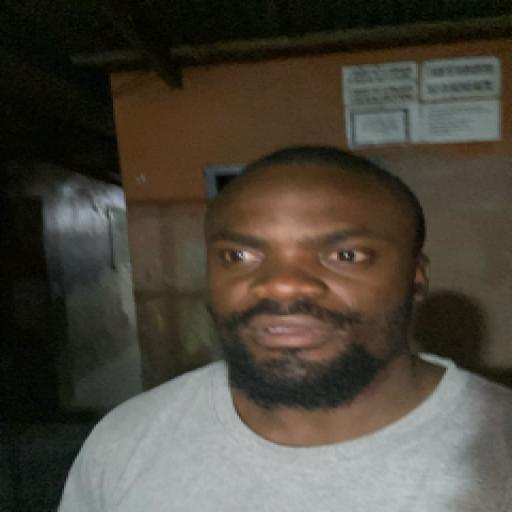JEANLUC: (196, 140, 432, 434)
